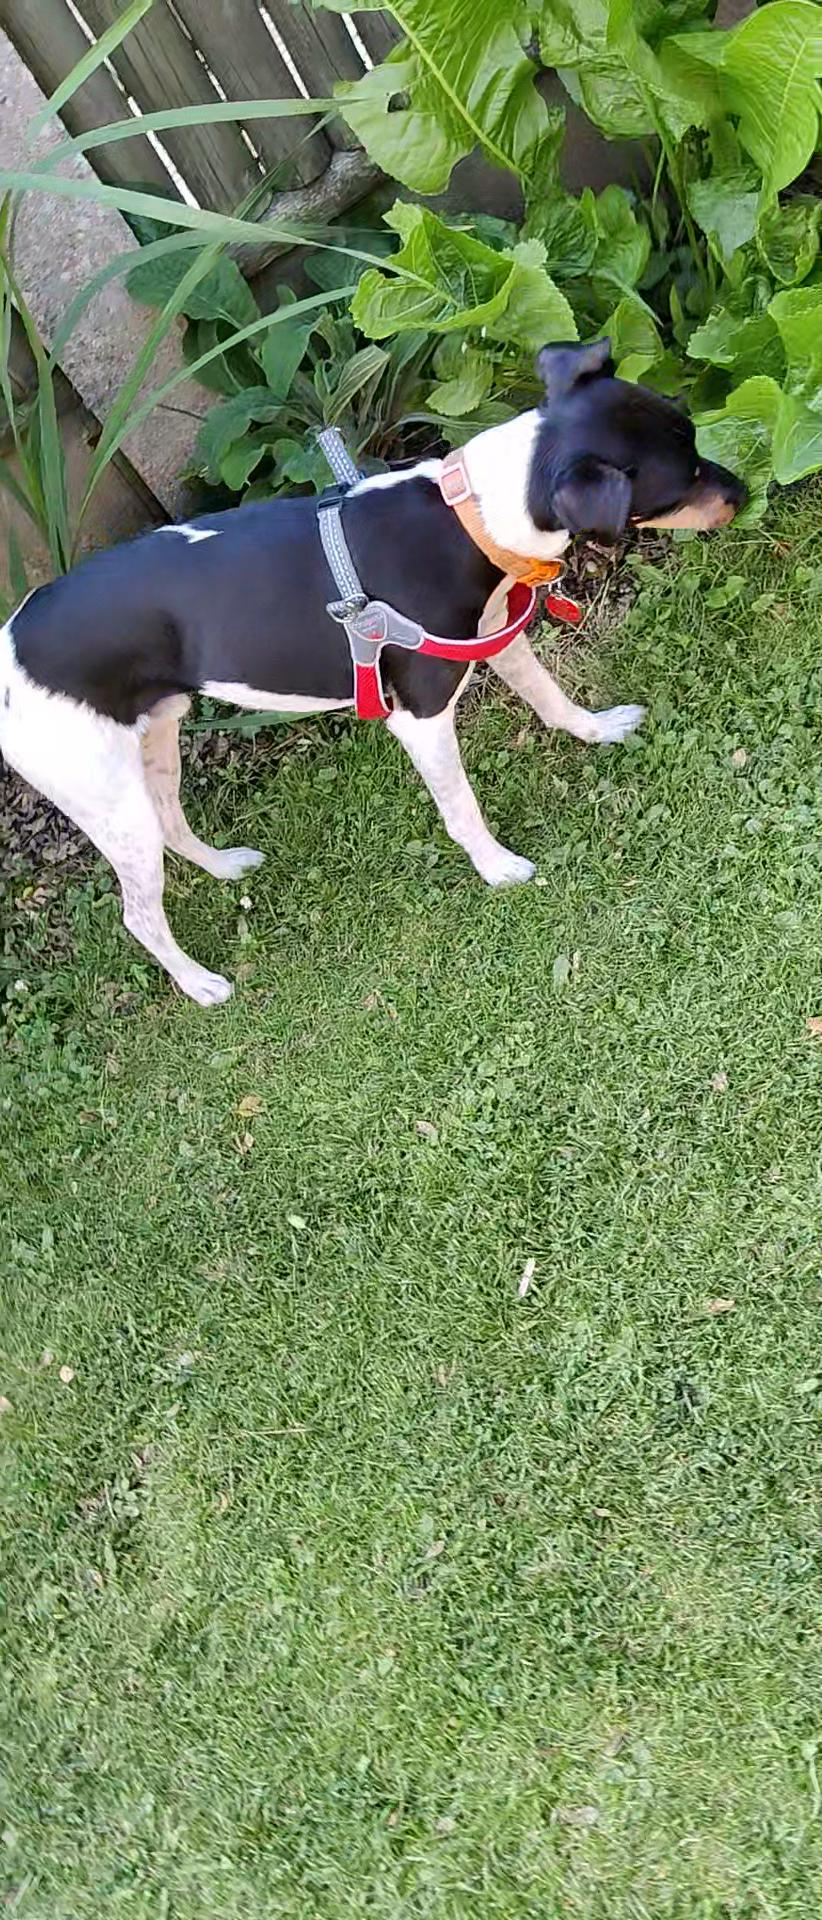Dog: (0, 320, 785, 1019)
